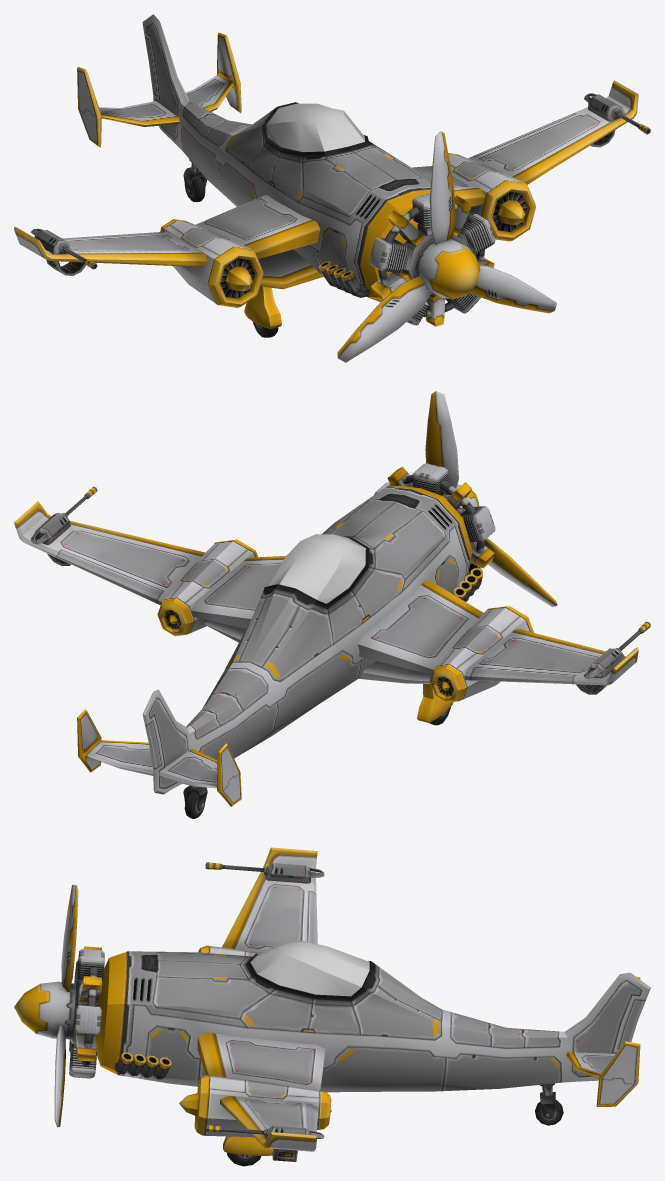
File: air_plane_2.fbx
The picture shows the model from 3 angles, top to bottom: view 1: azimuth 30°, elevation 25°; view 2: azimuth 150°, elevation 25°; view 3: azimuth 270°, elevation 25°; orthographic projection. The views are drawn at different scales.
Visible parts, largest first — view 1: air_plane_2, Canh quat_2; view 2: air_plane_2, Canh quat_2; view 3: air_plane_2, Canh quat_2.
Boxes of the visible parts, bbox=[...] form: air_plane_2: bbox=[14, 14, 650, 337]; Canh quat_2: bbox=[337, 131, 556, 362]; air_plane_2: bbox=[14, 463, 650, 818]; Canh quat_2: bbox=[425, 391, 557, 607]; air_plane_2: bbox=[69, 847, 650, 1166]; Canh quat_2: bbox=[14, 884, 78, 1127].
Size of the model in its own units: 6792 by 2667 by 6397.
